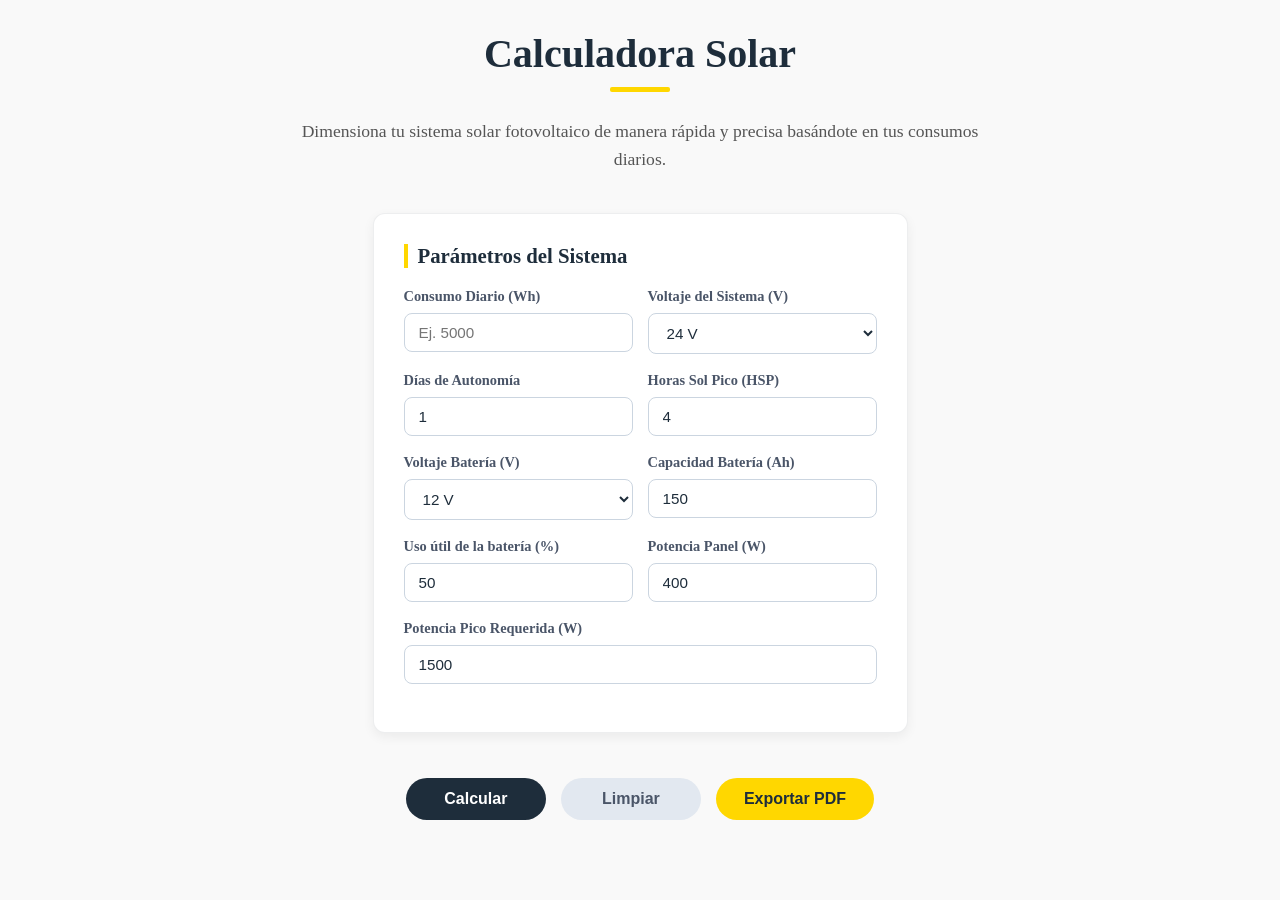
Scenario: CalculadoraSolar › exportar PDF › usa un mensaje por defecto si el error no trae texto
The width and height of the screenshot is (1280, 900).
(page scrolled)
Click the button "Exportar PDF" at (795, 800), box [716,778,874,820]
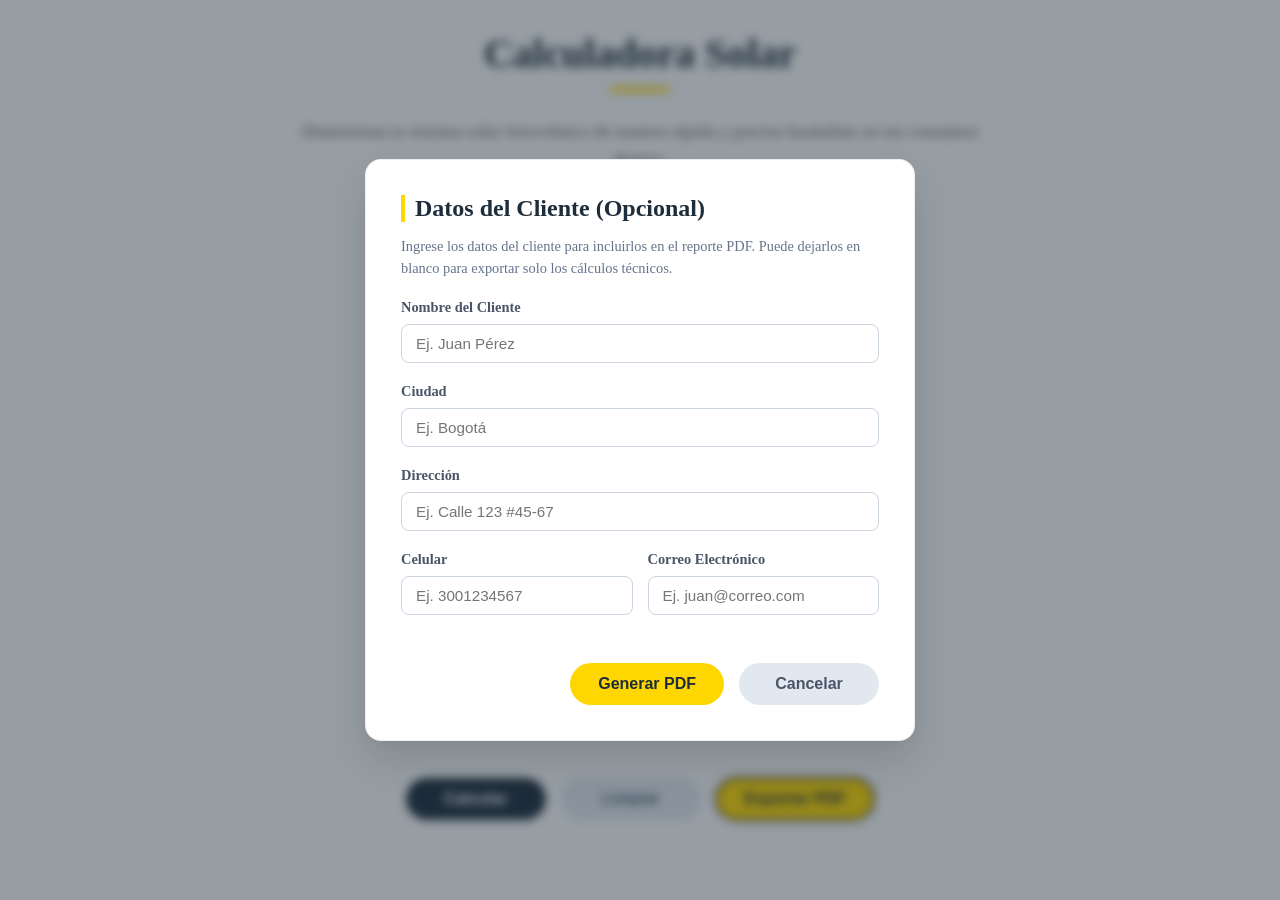
Click the button "Generar PDF" at (647, 684), box [570,663,724,705]
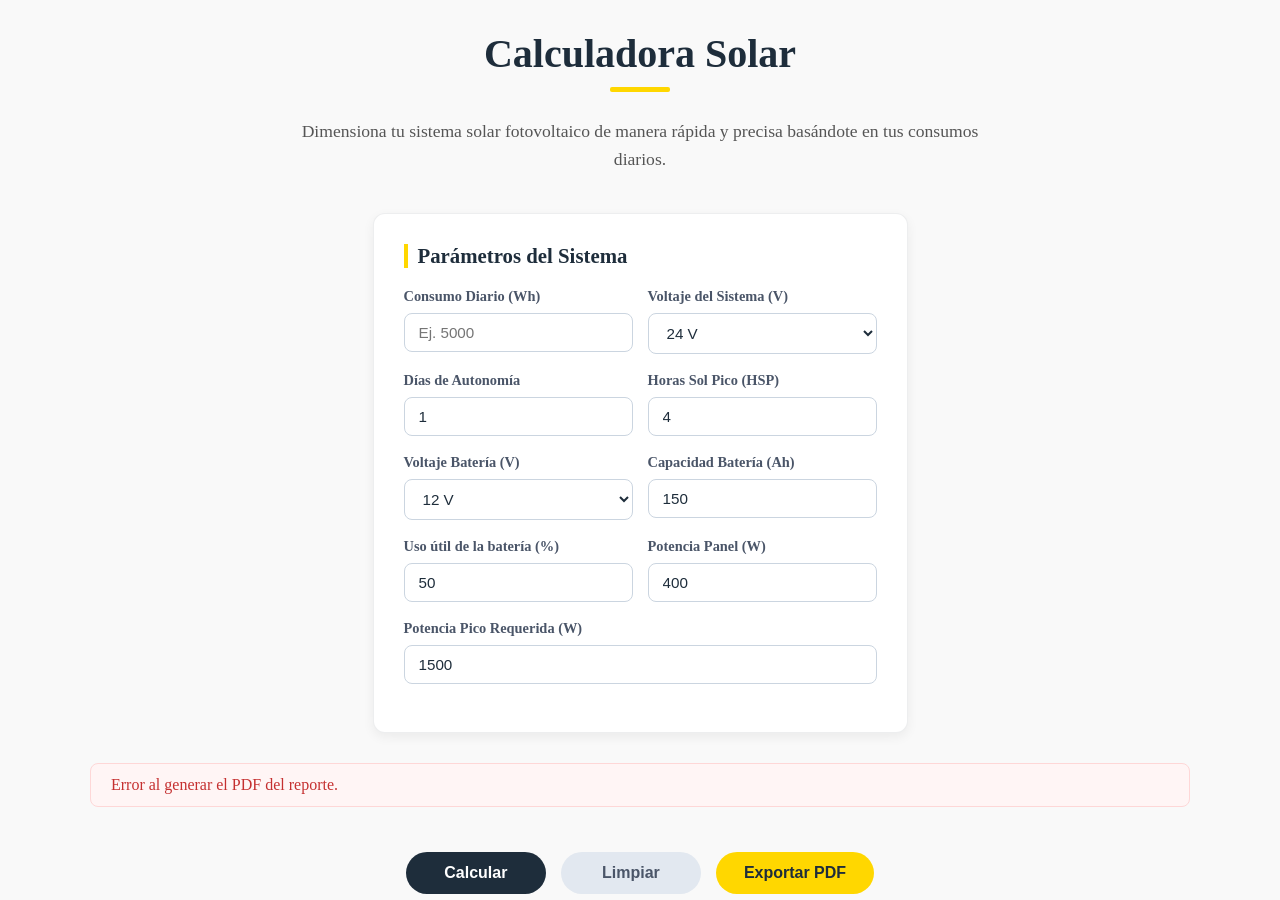
Expected: the text "Error al generar el PDF del reporte." is shown, [90,764,1190,808]
